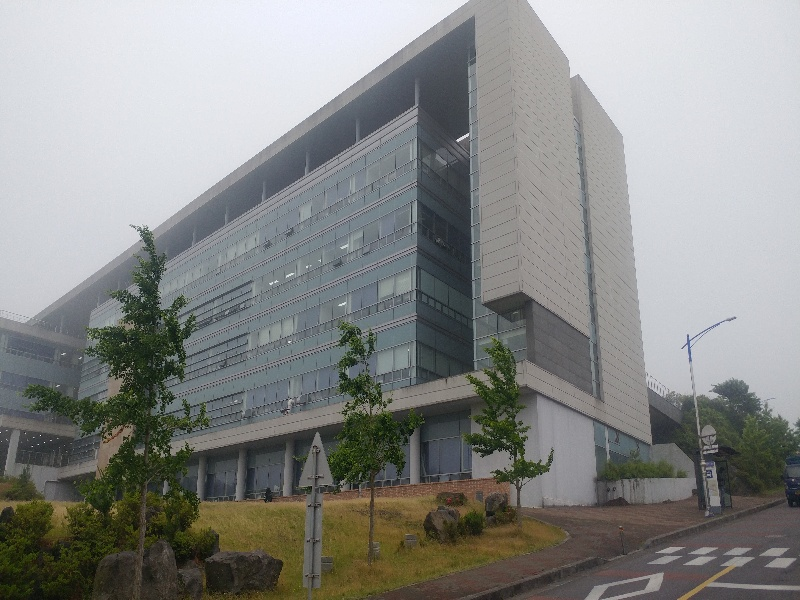Engineering College Building 4: (4, 122, 633, 480), (465, 6, 659, 508)
